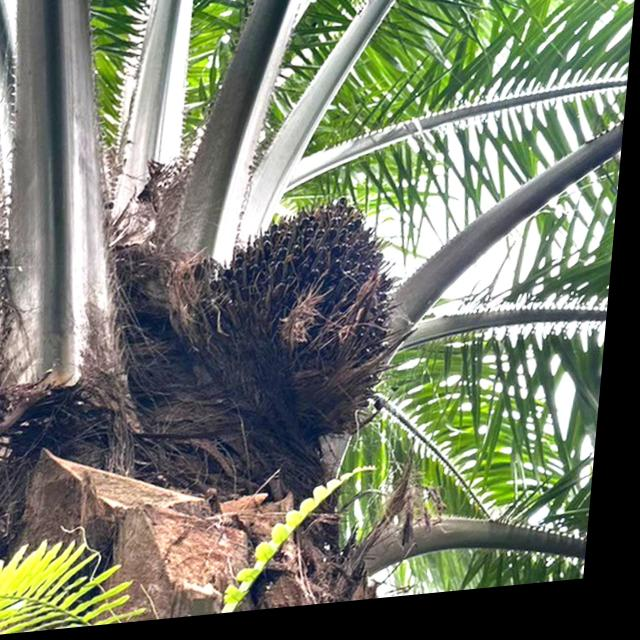unripe: (188, 196, 436, 451)
